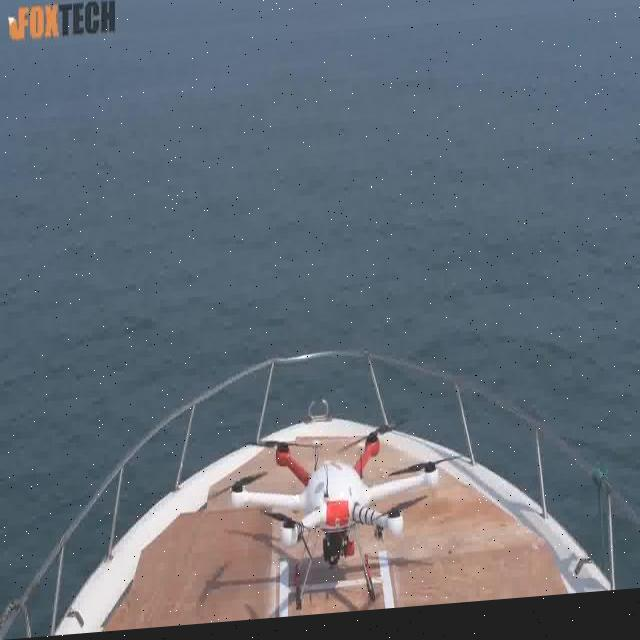drone: (222, 415, 439, 619)
